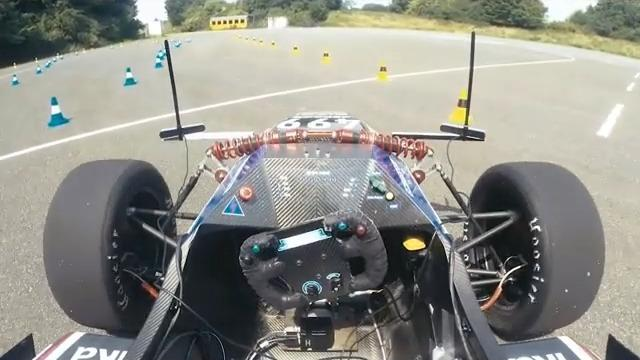blue_cone: (31, 94, 70, 126), (114, 58, 148, 91)
yellow_cone: (443, 92, 476, 131), (368, 58, 400, 89), (318, 43, 329, 67)
